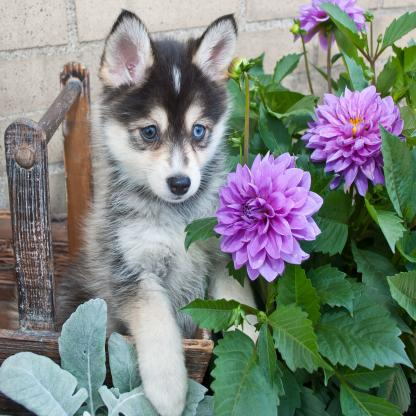husky: (58, 8, 236, 416)
